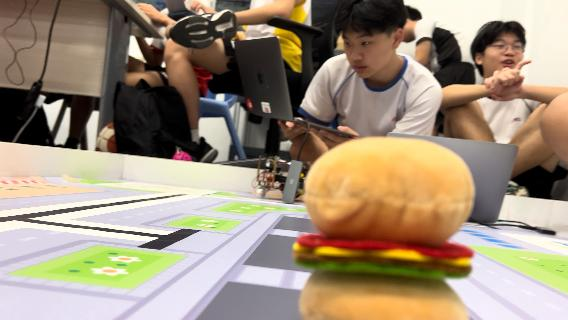burger: (306, 136, 476, 320)
